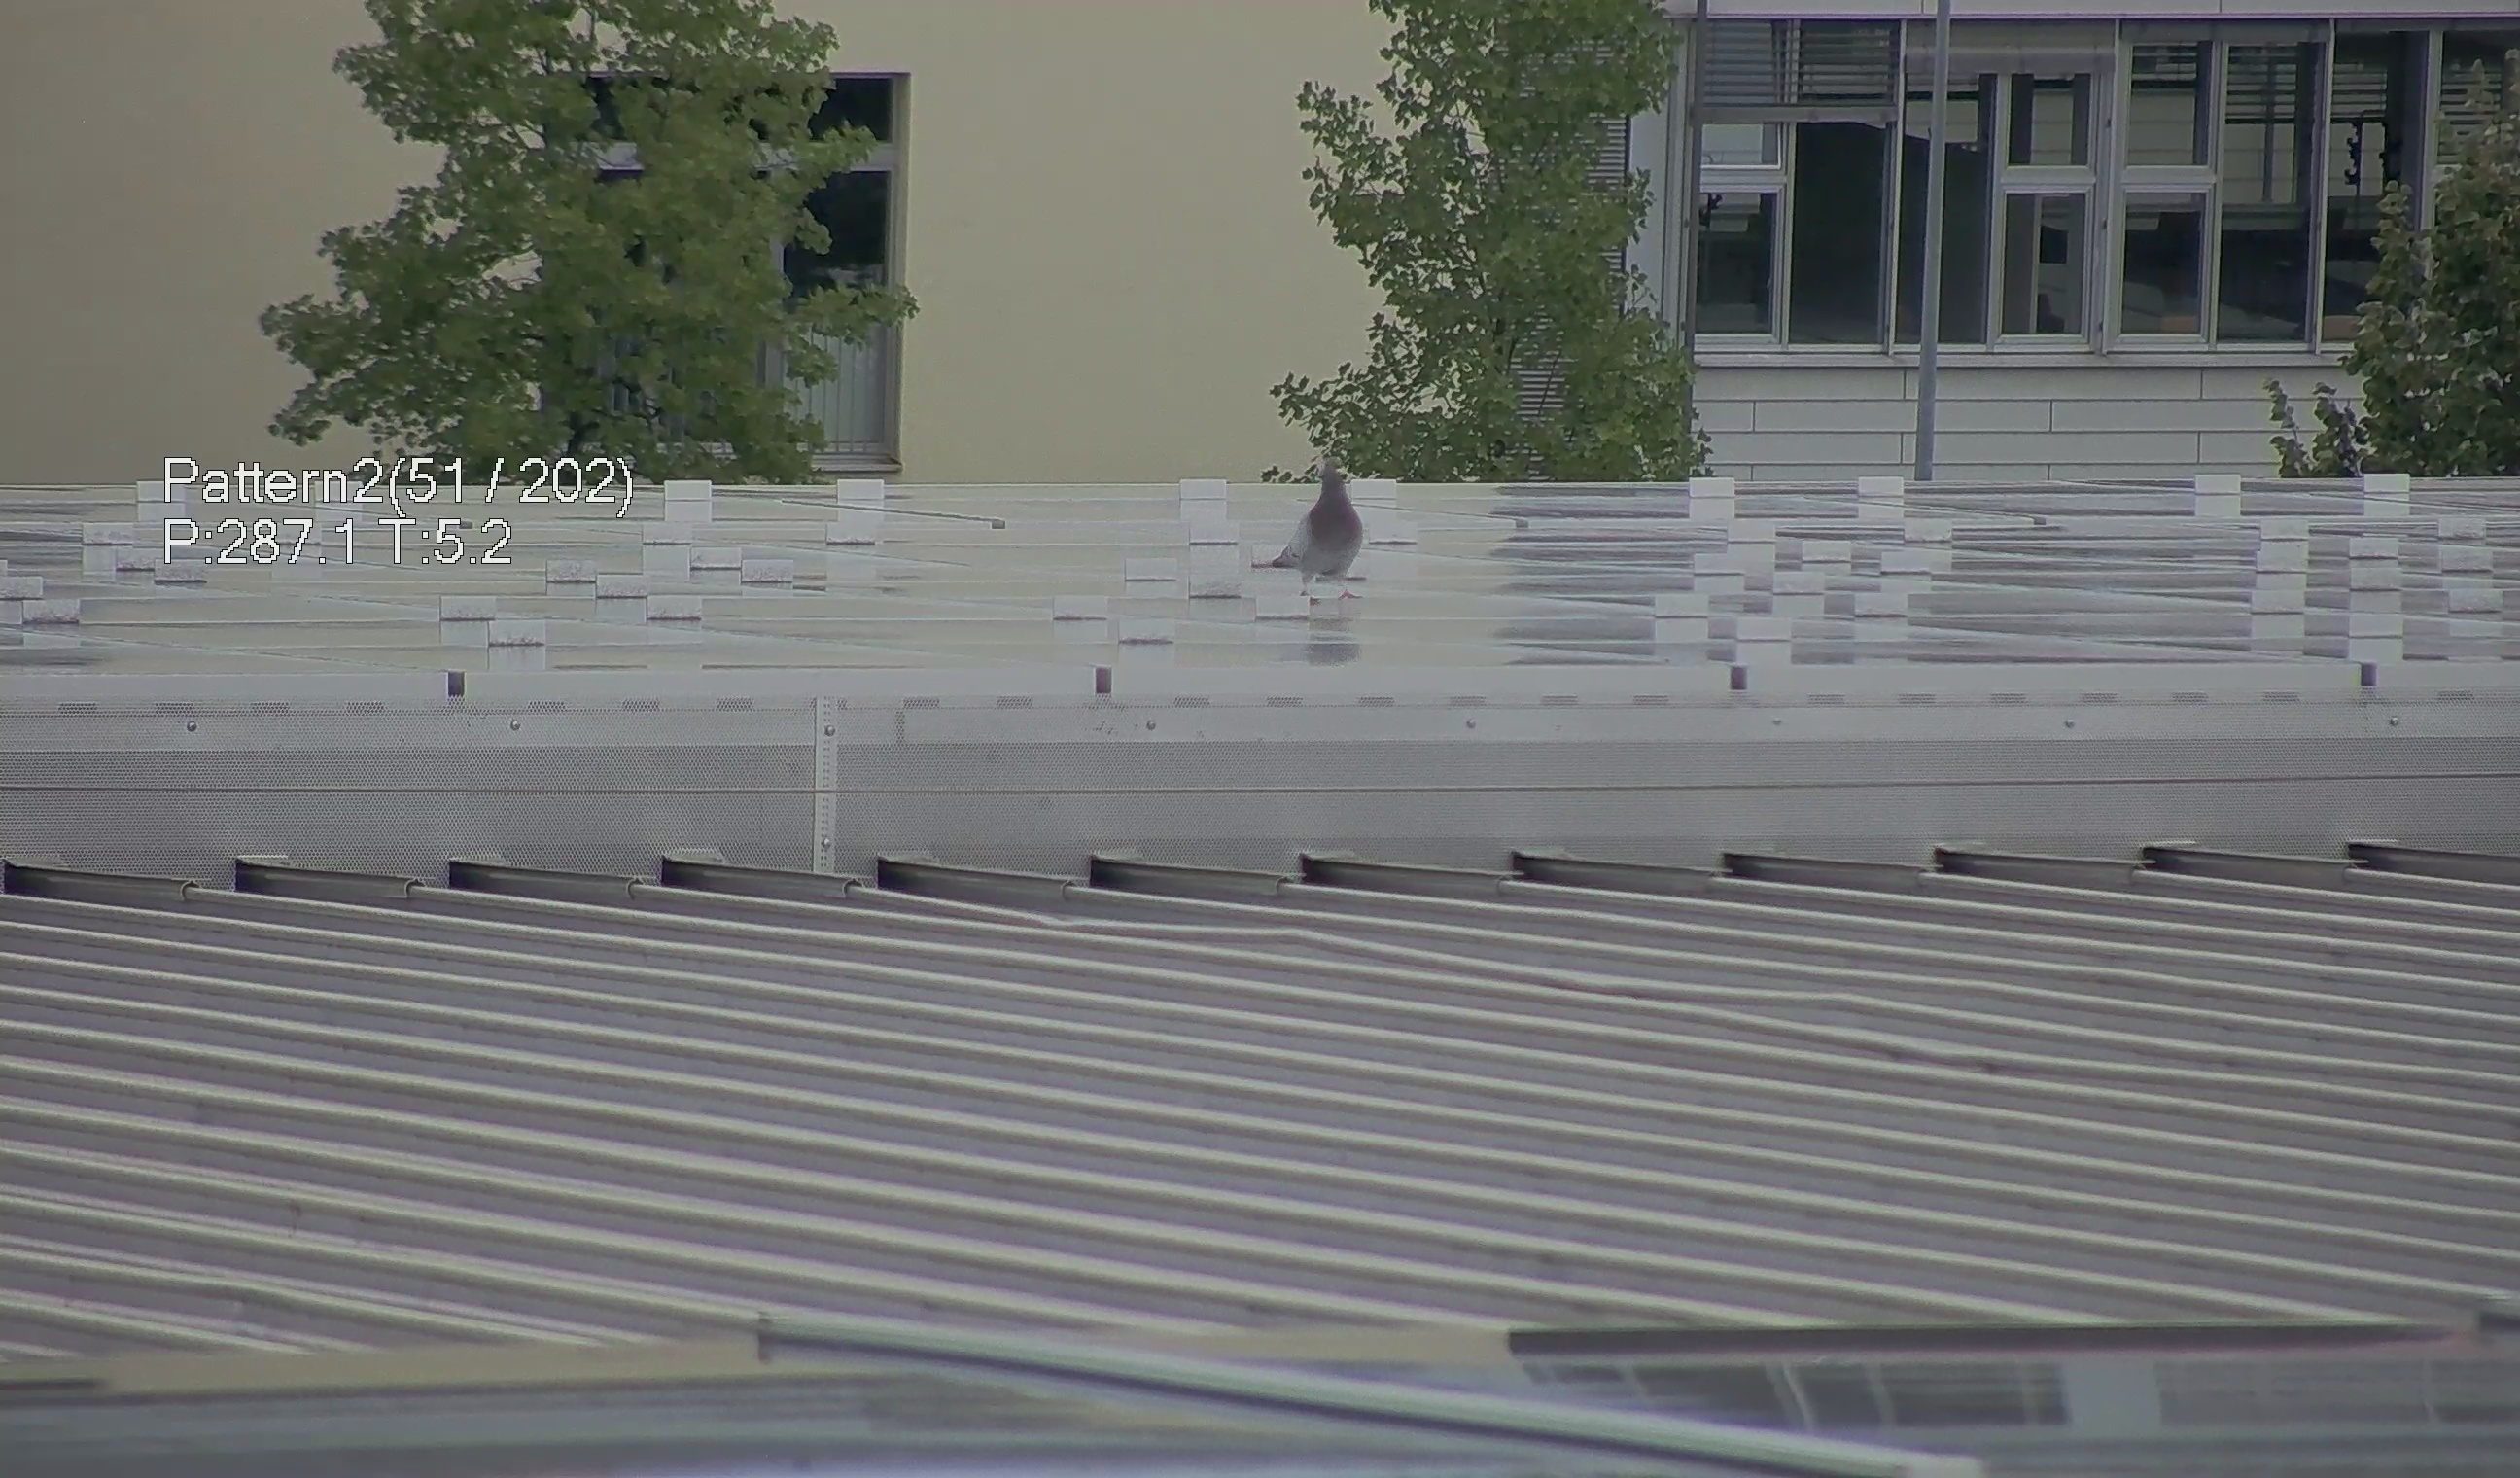Pigeon: (1263, 447, 1384, 596)
